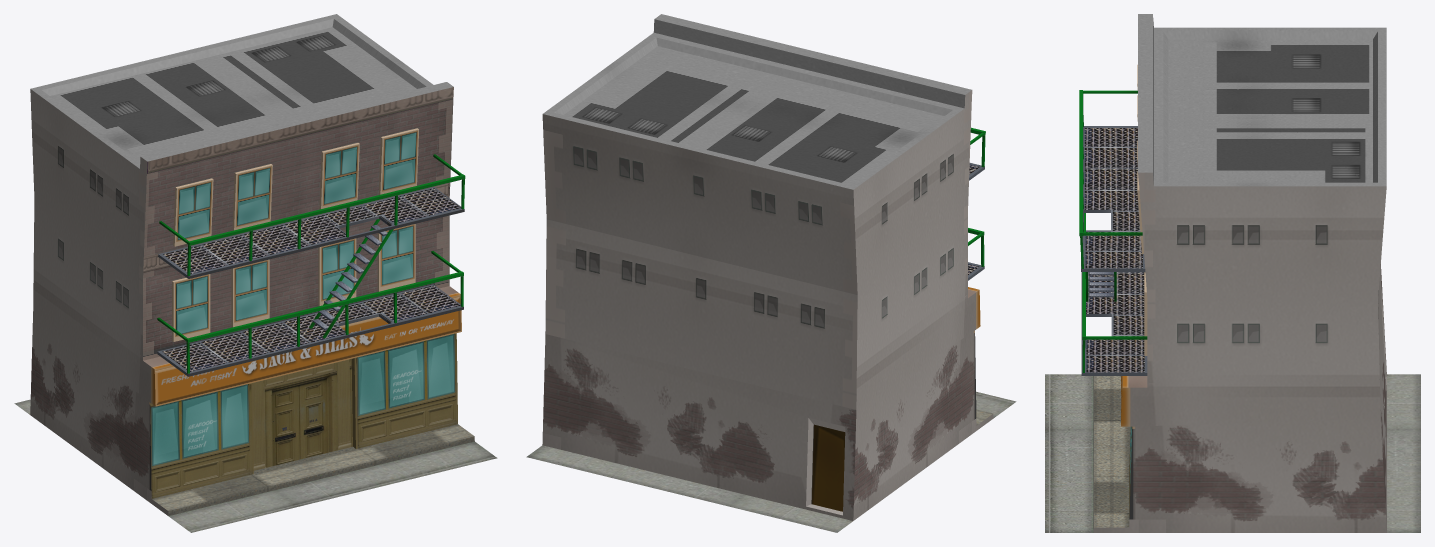
File: Residential Block B.fbx
The picture shows the model from 3 angles, left to right: view 1: azimuth 30°, elevation 25°; view 2: azimuth 150°, elevation 25°; view 3: azimuth 270°, elevation 25°; orthographic projection. The views are drawn at different scales.
Visible parts, largest first — view 1: resblock_02; view 2: resblock_02; view 3: resblock_02.
Boxes of the visible parts, left/top/right/bottom form: resblock_02: left=14, top=14, right=497, bottom=532; resblock_02: left=526, top=14, right=1016, bottom=532; resblock_02: left=1045, top=14, right=1420, bottom=532.
Bounding box in the file's own units: 10 × 10.58 × 10.
1 material, 1 textured.
